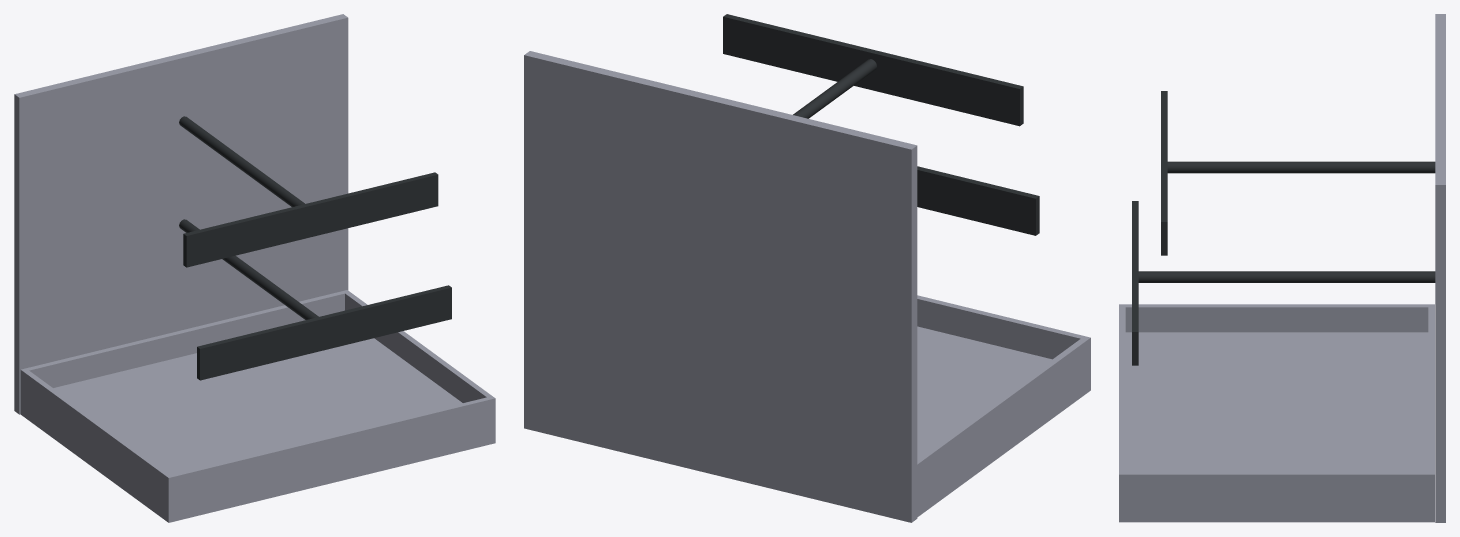
Rendered from SM_standing_box_01.fbx.
3 views of the same model, side by side, from view 1: azimuth 30°, elevation 25°; view 2: azimuth 150°, elevation 25°; view 3: azimuth 270°, elevation 25° (orthographic). The views are drawn at different scales.
Visible parts, largest first — view 1: standing_box_01; view 2: standing_box_01; view 3: standing_box_01.
Part boxes in pixels (x1,y1,x2,y2): standing_box_01: (14,14,495,522); standing_box_01: (524,14,1090,522); standing_box_01: (1119,14,1445,522).
Size of the model in its own units: 73.38 by 67.56 by 59.22.
